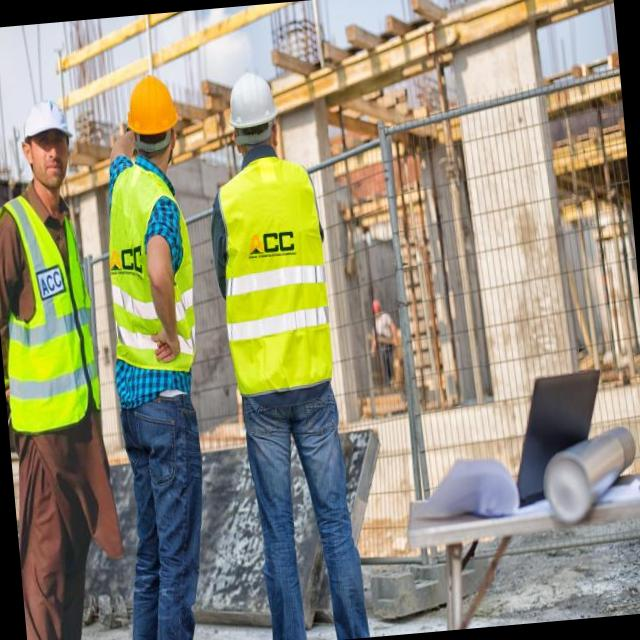Helmet: (220, 68, 275, 144), (123, 71, 181, 139)
Vest: (218, 154, 346, 394), (0, 189, 103, 425)
